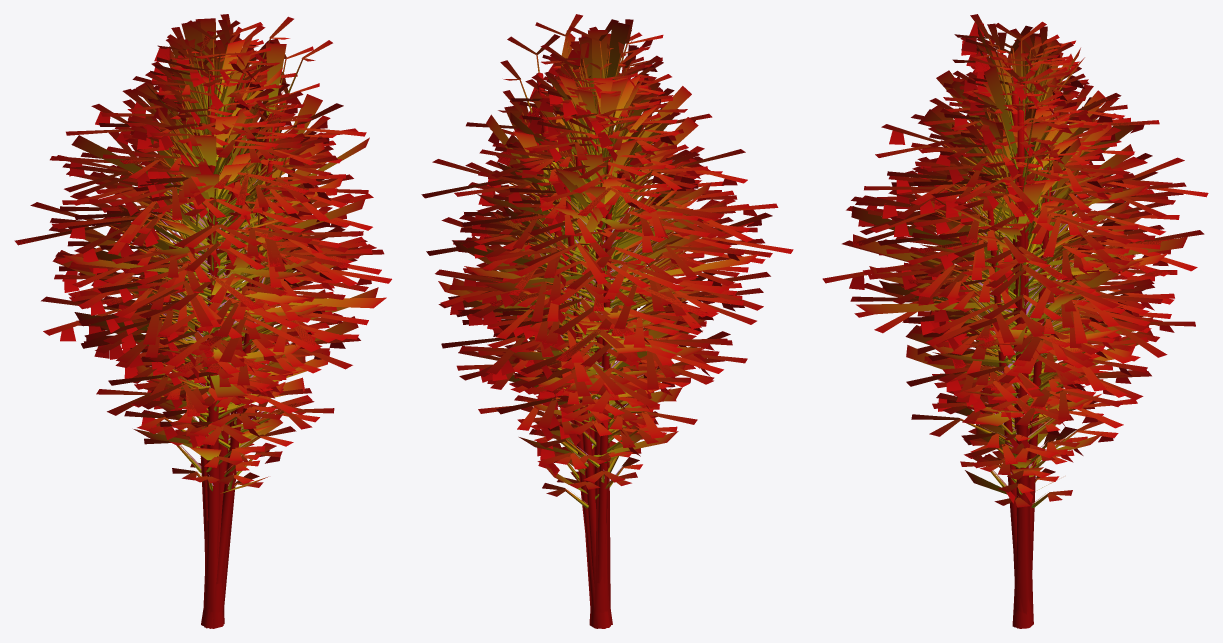
Rendered from alder.glb.
3 renders of one model, left to right at view 1: azimuth 30°, elevation 25°; view 2: azimuth 150°, elevation 25°; view 3: azimuth 270°, elevation 25°, orthographic. The views are drawn at different scales.
Parts seen in each view (by area): view 1: v5, v1, v0, v4, v9, v7, v8, v2, v3, v6, v5_far, v9_far (+8 smaller); view 2: v5, v1, v0, v4, v9, v7, v8, v2, v6, v3, v9_far, v8_far (+8 smaller); view 3: v5, v8, v4, v9, v3, v7, v1, v0, v2, v6, v8_far, v5_far (+8 smaller).
Boxes of the visible parts, left/top/right/bottom form: v5: left=14, top=14, right=381, bottom=445; v1: left=55, top=25, right=363, bottom=625; v0: left=50, top=20, right=361, bottom=628; v4: left=54, top=30, right=372, bottom=419; v9: left=52, top=40, right=391, bottom=628; v7: left=49, top=27, right=359, bottom=411; v8: left=107, top=38, right=364, bottom=628; v2: left=66, top=38, right=353, bottom=336; v3: left=121, top=16, right=367, bottom=628; v6: left=77, top=19, right=315, bottom=464; v5_far: left=71, top=39, right=386, bottom=410; v9_far: left=52, top=18, right=365, bottom=386; v5: left=421, top=44, right=793, bottom=438; v1: left=453, top=19, right=747, bottom=628; v0: left=457, top=26, right=749, bottom=627; v4: left=435, top=19, right=765, bottom=427; v9: left=448, top=54, right=778, bottom=611; v7: left=426, top=46, right=757, bottom=406; v8: left=457, top=34, right=704, bottom=628; v2: left=484, top=42, right=723, bottom=365; v6: left=495, top=35, right=696, bottom=463; v3: left=456, top=14, right=718, bottom=628; v9_far: left=452, top=73, right=758, bottom=385; v8_far: left=438, top=30, right=693, bottom=625; v5: left=822, top=45, right=1208, bottom=423; v8: left=854, top=66, right=1151, bottom=617; v4: left=846, top=14, right=1204, bottom=421; v9: left=861, top=31, right=1177, bottom=628; v3: left=896, top=56, right=1147, bottom=612; v7: left=861, top=21, right=1175, bottom=404; v1: left=896, top=38, right=1171, bottom=628; v0: left=877, top=32, right=1179, bottom=628; v2: left=888, top=23, right=1151, bottom=353; v6: left=901, top=40, right=1139, bottom=479; v8_far: left=906, top=66, right=1153, bottom=610; v5_far: left=856, top=54, right=1187, bottom=426.
Bounding box in the file's own units: 6.41 × 11.63 × 6.84.
